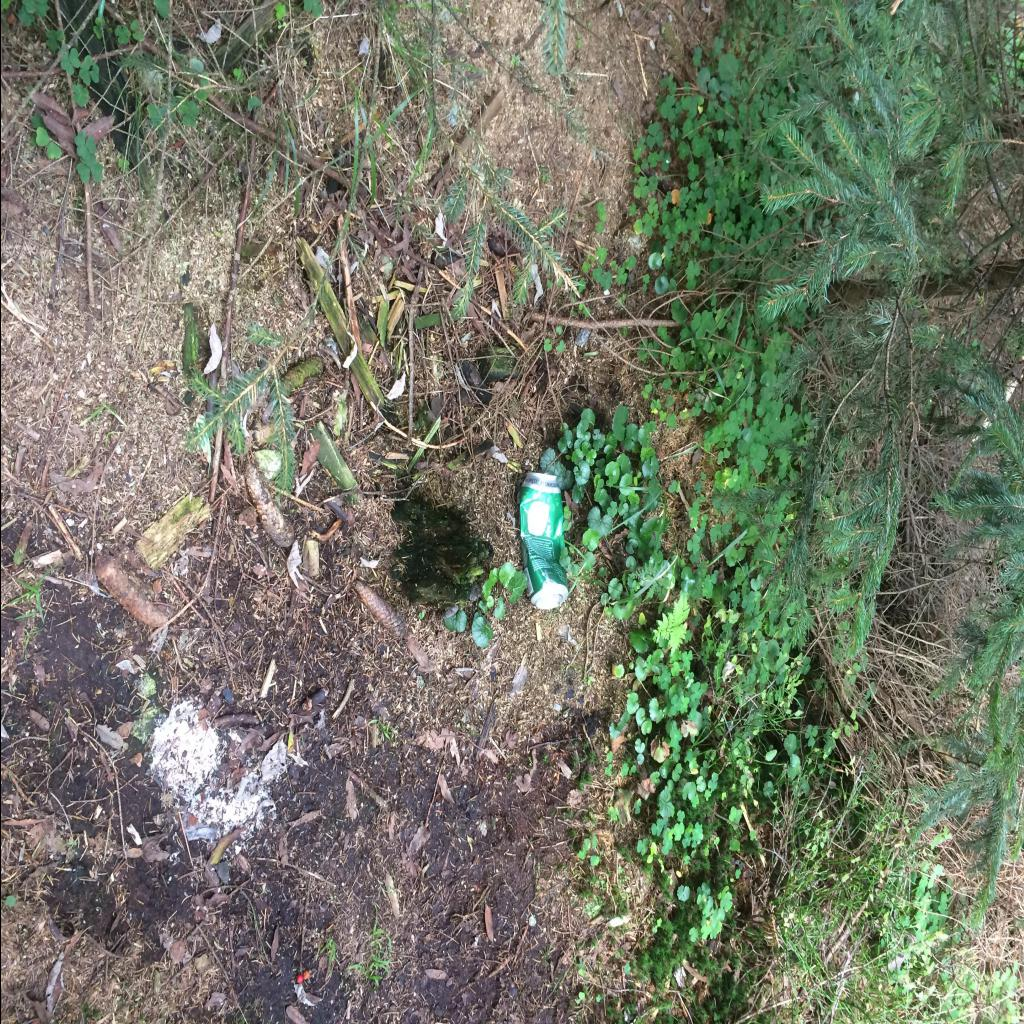Drink can: (519, 472, 567, 610)
